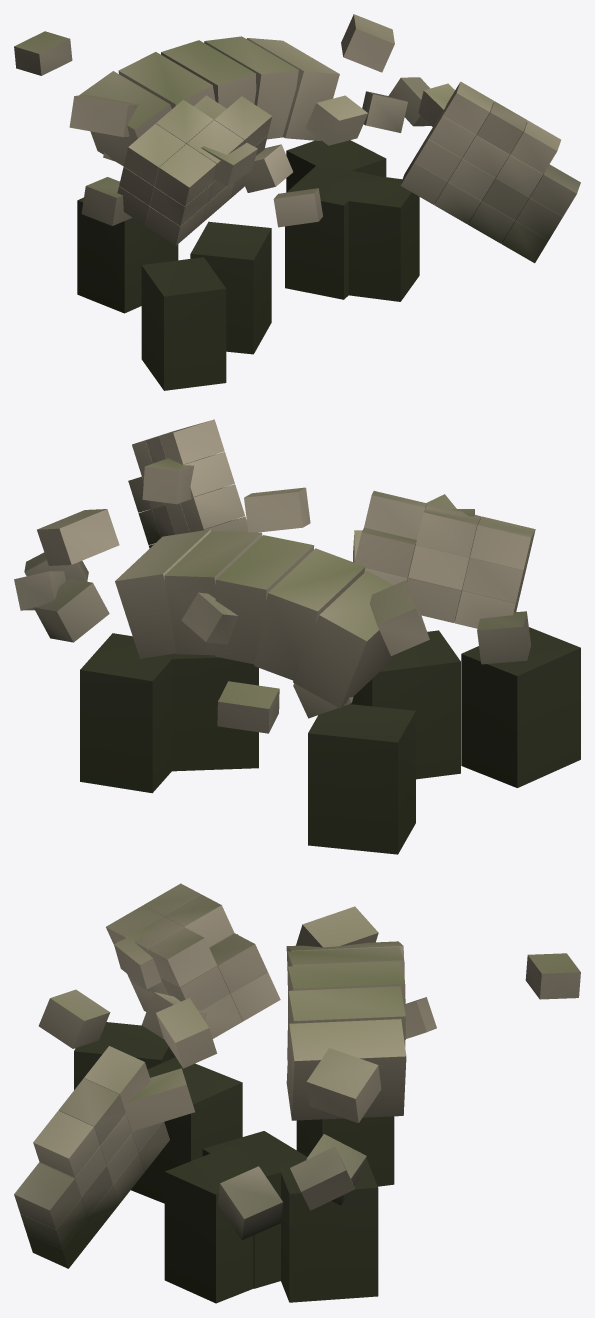
The model's file is harbour_gate_fallen_mid.glb.
3 renders of one model, top to bottom at view 1: azimuth 30°, elevation 25°; view 2: azimuth 150°, elevation 25°; view 3: azimuth 270°, elevation 25°, orthographic. The views are drawn at different scales.
Visible parts, largest first — view 1: harbour_gate_fallen_mid; view 2: harbour_gate_fallen_mid; view 3: harbour_gate_fallen_mid.
Boxes of the visible parts, x1,y1,x2,y2 form: harbour_gate_fallen_mid: [14, 14, 580, 390]; harbour_gate_fallen_mid: [14, 419, 580, 854]; harbour_gate_fallen_mid: [14, 883, 580, 1303].
Bounding box in the file's own units: 37.23 × 19.63 × 37.79.
